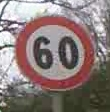limite 60: (15, 10, 97, 93)
